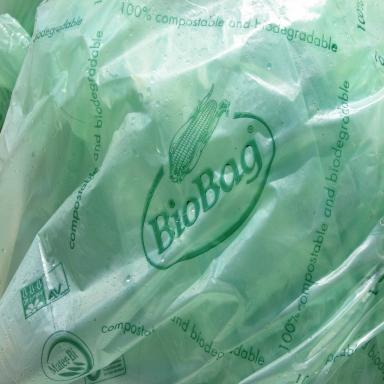plasticbag: (0, 0, 383, 383), (0, 8, 28, 128)
